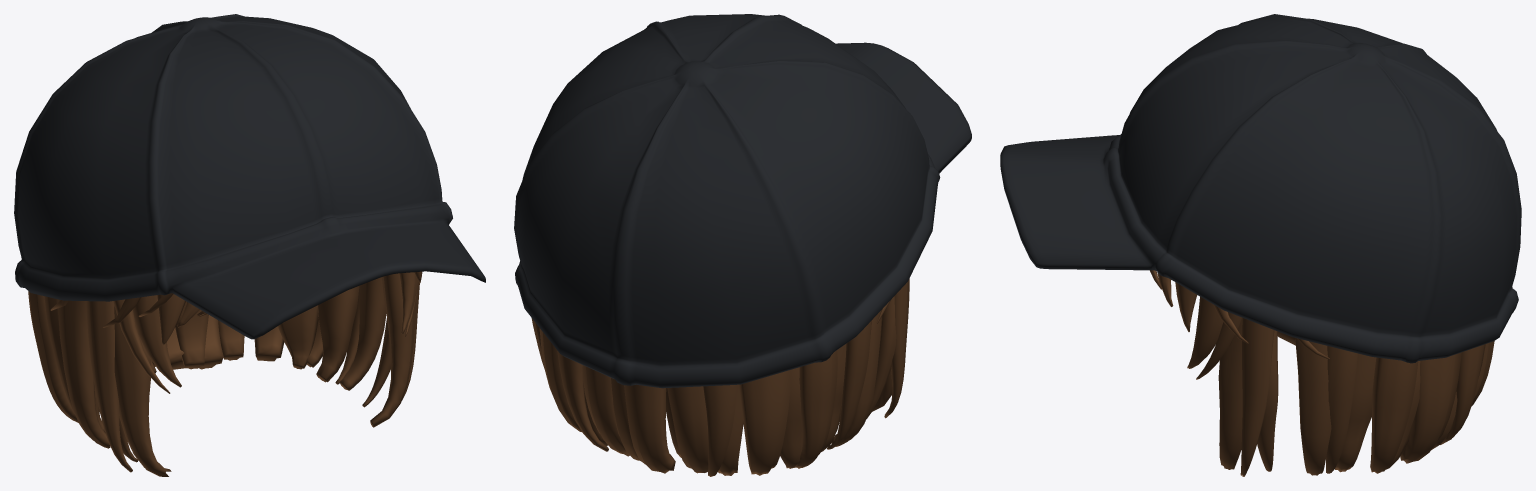
Rendered from hair1_l.fbx.
The picture shows the model from 3 angles, left to right: view 1: azimuth 30°, elevation 25°; view 2: azimuth 150°, elevation 25°; view 3: azimuth 270°, elevation 25°; orthographic projection. The views are drawn at different scales.
Parts seen in each view (by area): view 1: hair_l; view 2: hair_l; view 3: hair_l.
Part boxes in pixels (x1,y1,x2,y2): hair_l: [14, 14, 485, 476]; hair_l: [514, 14, 971, 476]; hair_l: [1000, 14, 1521, 476].
Bounding box in the file's own units: 44.03 × 45.53 × 56.4.
